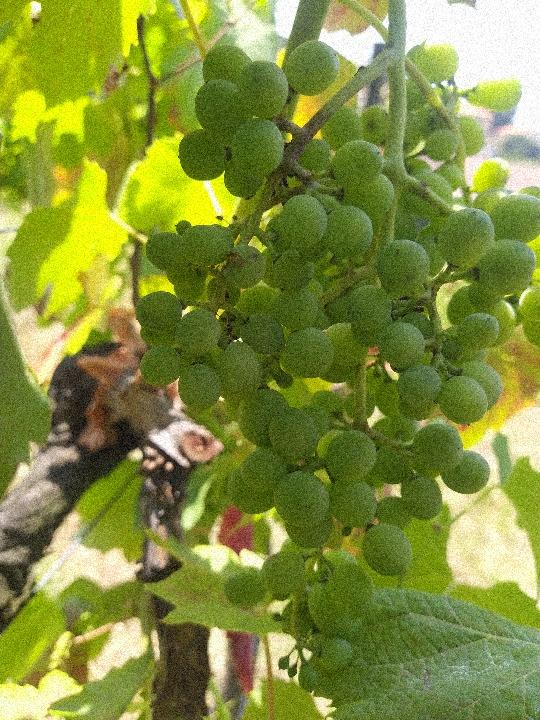grape: (132, 38, 538, 694)
